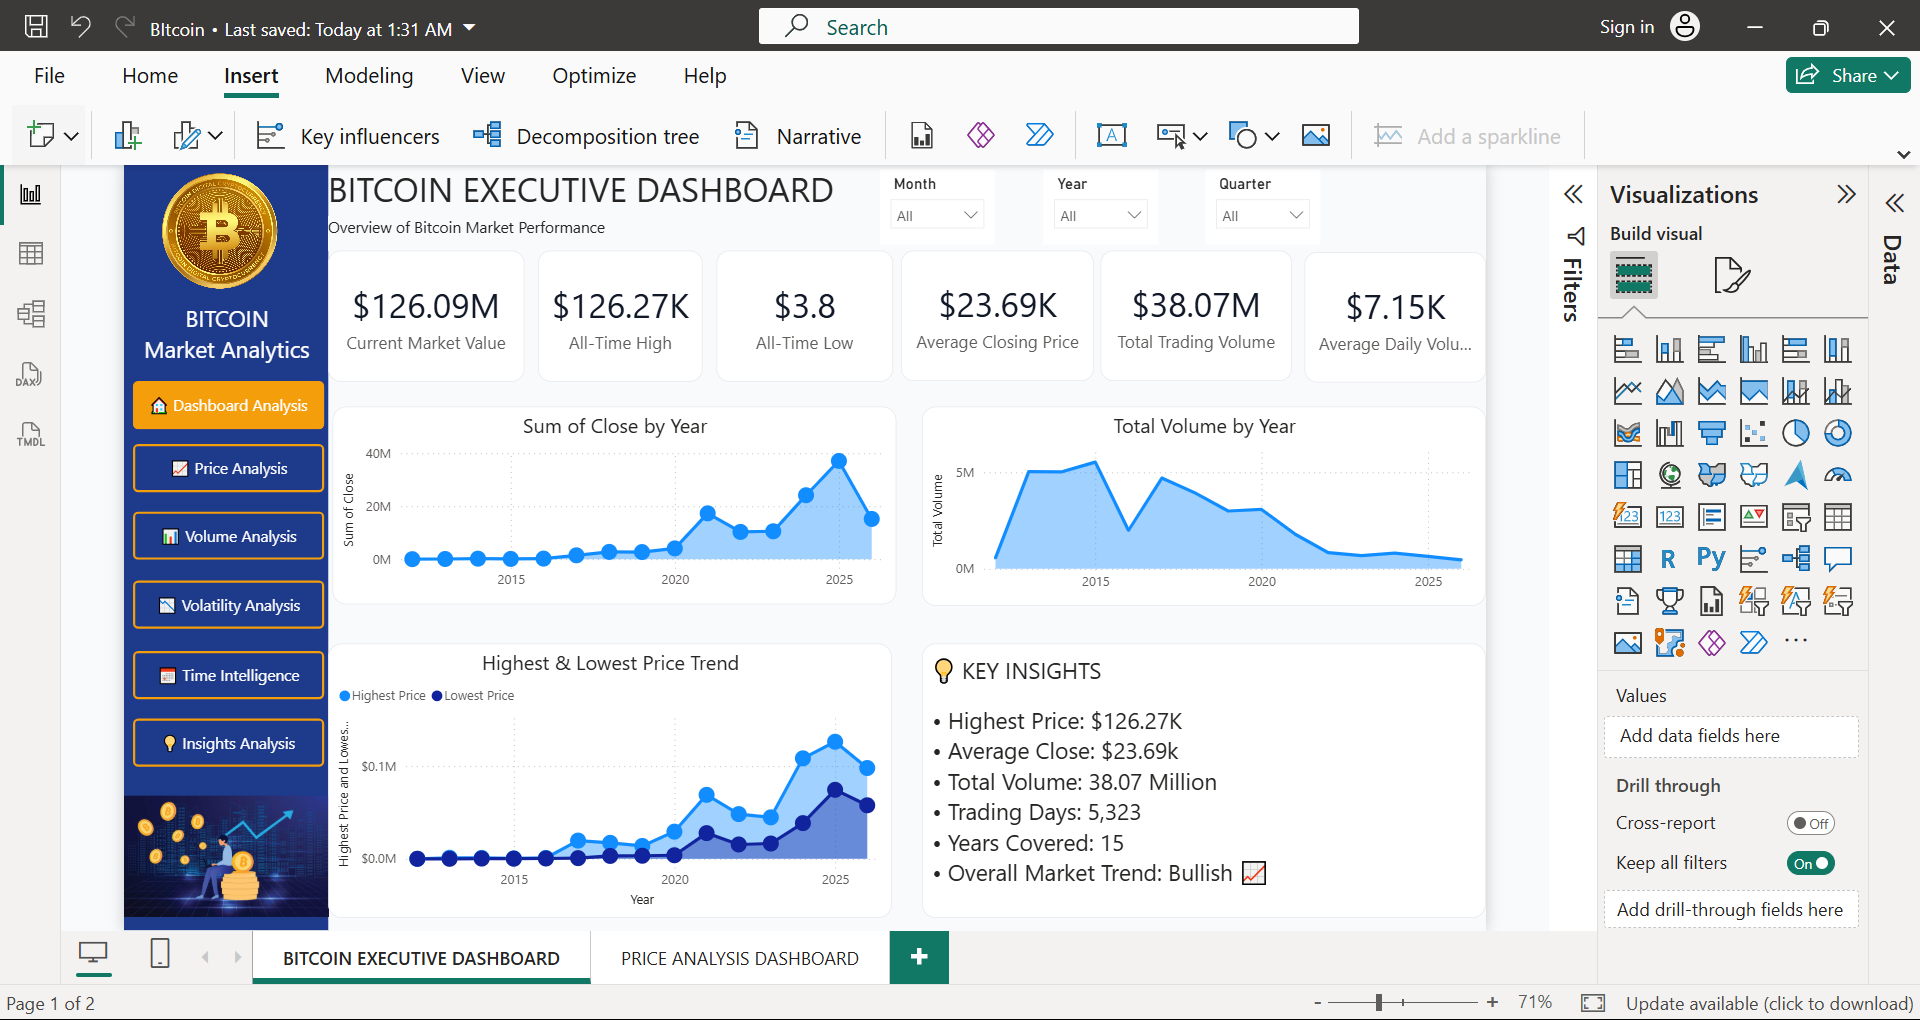

Layout of this report page (visuals, bound fields, positions):
{"tool":"powerbi","page":{"name":"BITCOIN EXECUTIVE DASHBOARD","canvas":[1280,720],"ordinal":0},"visuals":[{"type":"shape","box":[0,0,192.3,719.2],"z":0},{"type":"image","box":[0,0,180.2,124.2],"z":1000},{"type":"textbox","box":[1.5,124.1,190.6,80.2],"z":2000},{"type":"actionButton","box":[7.8,203.2,179.7,45.3],"z":3000},{"type":"actionButton","box":[7.8,262.6,179.7,45.3],"z":4000},{"type":"actionButton","box":[7.8,390.7,179.7,45.3],"z":5000},{"type":"actionButton","box":[7.8,325.1,179.7,45.3],"z":6000},{"type":"actionButton","box":[7.8,456.4,179.7,45.3],"z":7000},{"type":"actionButton","box":[7.8,520.5,179.7,45.3],"z":8000},{"type":"shape","title":"BITCOIN EXECUTIVE DASHBOARD","box":[191.8,0,1088.5,80.4],"z":9000},{"type":"card","fields":{"Values":["Sum(Bitcoin_Cleaned_Daily.Close)"]},"box":[192.2,79.7,184.4,123.5],"z":10000},{"type":"card","fields":{"Values":["Bitcoin_Cleaned_Daily.Highest Price"]},"box":[389.2,79.7,154.7,123.5],"z":11000},{"type":"card","fields":{"Values":["Bitcoin_Cleaned_Daily.Lowest Price"]},"box":[556.4,79.7,165.7,123.5],"z":12000},{"type":"card","fields":{"Values":["Bitcoin_Cleaned_Daily.Average Close"]},"box":[730.8,80.2,181.6,122.6],"z":13000},{"type":"card","fields":{"Values":["Bitcoin_Cleaned_Daily.Total Volume"]},"box":[918.4,80.2,180,122.6],"z":14000},{"type":"card","fields":{"Values":["Bitcoin_Cleaned_Daily.Average Volume"]},"box":[1109,81.7,171,122.6],"z":15000},{"type":"lineChart","fields":{"Category":["Bitcoin_Cleaned_Daily.Date.Variation.Date Hierarchy.Year","Bitcoin_Cleaned_Daily.Date.Variation.Date Hierarchy.Quarter","Bitcoin_Cleaned_Daily.Date.Variation.Date Hierarchy.Month","Bitcoin_Cleaned_Daily.Date.Variation.Date Hierarchy.Day"],"Y":["Sum(Bitcoin_Cleaned_Daily.Close)"]},"box":[195.4,227.7,529.9,186],"z":16000},{"type":"areaChart","fields":{"Category":["Bitcoin_Cleaned_Daily.Date.Variation.Date Hierarchy.Year","Bitcoin_Cleaned_Daily.Date.Variation.Date Hierarchy.Quarter","Bitcoin_Cleaned_Daily.Date.Variation.Date Hierarchy.Month","Bitcoin_Cleaned_Daily.Date.Variation.Date Hierarchy.Day"],"Y":["Bitcoin_Cleaned_Daily.Total Volume"]},"box":[750.2,226.6,529.9,187.6],"z":17000},{"type":"lineChart","title":"Highest & Lowest Price Trend","fields":{"Category":["Bitcoin_Cleaned_Daily.Date.Variation.Date Hierarchy.Year","Bitcoin_Cleaned_Daily.Date.Variation.Date Hierarchy.Quarter","Bitcoin_Cleaned_Daily.Date.Variation.Date Hierarchy.Month","Bitcoin_Cleaned_Daily.Date.Variation.Date Hierarchy.Day"],"Y":["Bitcoin_Cleaned_Daily.Highest Price","Bitcoin_Cleaned_Daily.Lowest Price"]},"box":[192.2,450.1,529.9,257.9],"z":18000},{"type":"shape","box":[701.8,0,578.3,79.7],"z":19000},{"type":"slicer","fields":{"Values":["Bitcoin_Cleaned_Daily.Month"]},"box":[711.2,4.7,107.8,70.3],"z":20000},{"type":"slicer","fields":{"Values":["Bitcoin_Cleaned_Daily.Year"]},"box":[864.3,4.7,107.8,70.3],"z":21000},{"type":"slicer","fields":{"Values":["Bitcoin_Cleaned_Daily.Quarter"]},"box":[1015.9,4.7,107.8,70.3],"z":22000},{"type":"textbox","box":[750,450,530,258],"z":23000},{"type":"image","box":[1.4,579.5,186.1,122.7],"z":24000}]}

Visuals, with their boxes on the page's 1280x720 design canvas (x1, y1, x2, y2). These are canvas units, not pixel positions in the 1920x1020 screenshot, which may show the page scaled, cropped or inside an application window:
shape: box(0, 0, 192, 719)
image: box(0, 0, 180, 124)
textbox: box(2, 124, 192, 204)
actionButton: box(8, 203, 188, 248)
actionButton: box(8, 263, 188, 308)
actionButton: box(8, 391, 188, 436)
actionButton: box(8, 325, 188, 370)
actionButton: box(8, 456, 188, 502)
actionButton: box(8, 520, 188, 566)
"BITCOIN EXECUTIVE DASHBOARD" shape: box(192, 0, 1280, 80)
card - Sum(Bitcoin_Cleaned_Daily.Close): box(192, 80, 377, 203)
card - Bitcoin_Cleaned_Daily.Highest Price: box(389, 80, 544, 203)
card - Bitcoin_Cleaned_Daily.Lowest Price: box(556, 80, 722, 203)
card - Bitcoin_Cleaned_Daily.Average Close: box(731, 80, 912, 203)
card - Bitcoin_Cleaned_Daily.Total Volume: box(918, 80, 1098, 203)
card - Bitcoin_Cleaned_Daily.Average Volume: box(1109, 82, 1280, 204)
lineChart - Bitcoin_Cleaned_Daily.Date.Variation.Date Hierarchy.Year x Bitcoin_Cleaned_Daily.Date.Variation.Date Hierarchy.Quarter: box(195, 228, 725, 414)
areaChart - Bitcoin_Cleaned_Daily.Date.Variation.Date Hierarchy.Year x Bitcoin_Cleaned_Daily.Date.Variation.Date Hierarchy.Quarter: box(750, 227, 1280, 414)
"Highest & Lowest Price Trend" lineChart: box(192, 450, 722, 708)
shape: box(702, 0, 1280, 80)
slicer - Bitcoin_Cleaned_Daily.Month: box(711, 5, 819, 75)
slicer - Bitcoin_Cleaned_Daily.Year: box(864, 5, 972, 75)
slicer - Bitcoin_Cleaned_Daily.Quarter: box(1016, 5, 1124, 75)
textbox: box(750, 450, 1280, 708)
image: box(1, 580, 188, 702)
